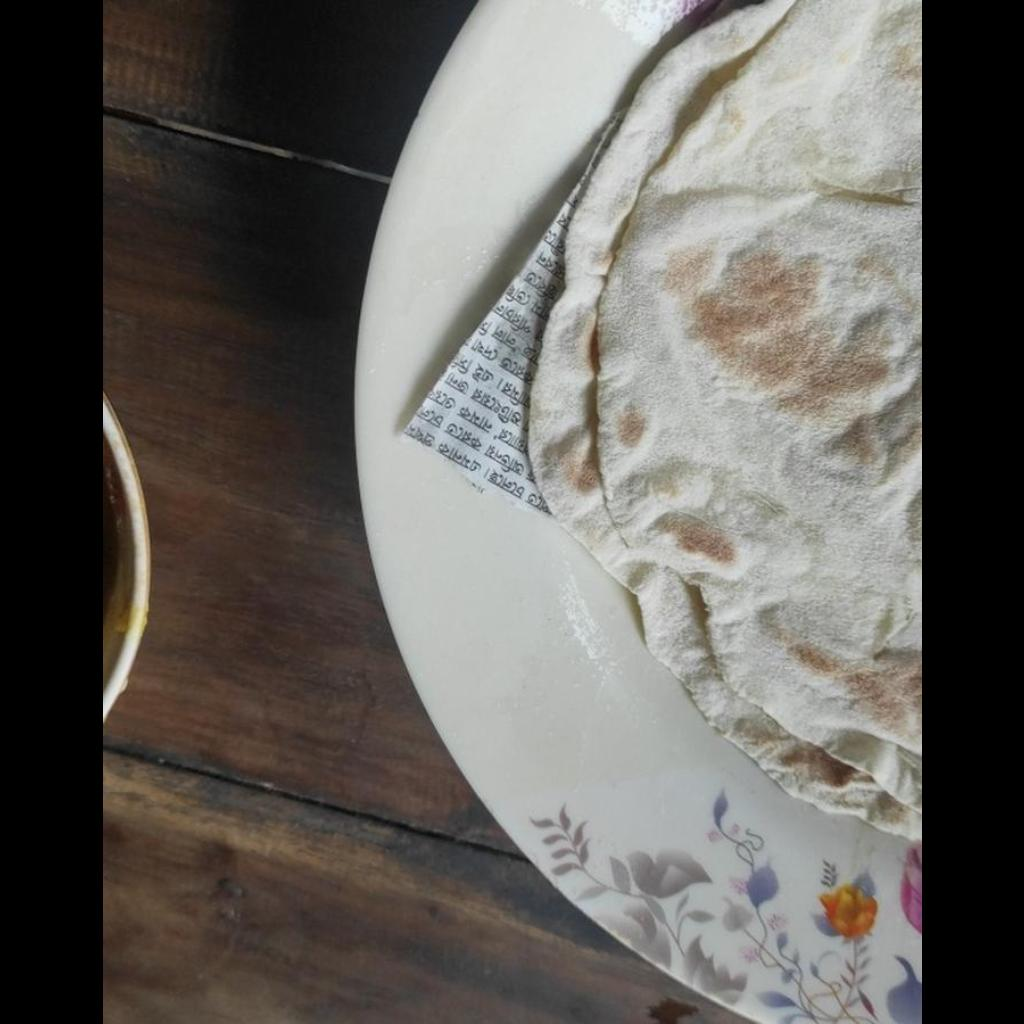ruti: (524, 0, 920, 838)
